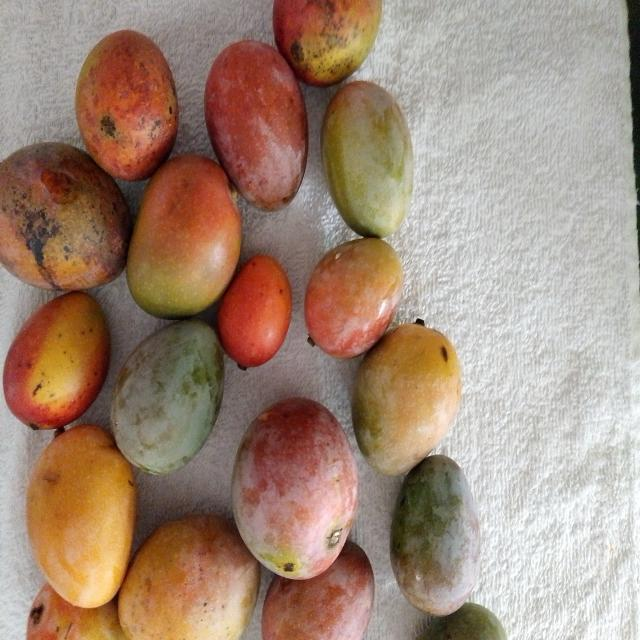mango: (235, 396, 360, 580), (22, 423, 137, 614), (125, 157, 242, 321), (119, 508, 264, 640), (348, 316, 462, 483), (206, 29, 308, 215), (111, 318, 227, 480), (0, 143, 129, 288), (78, 26, 189, 183), (0, 290, 111, 431), (389, 452, 482, 619), (320, 86, 418, 240), (302, 236, 411, 359)
